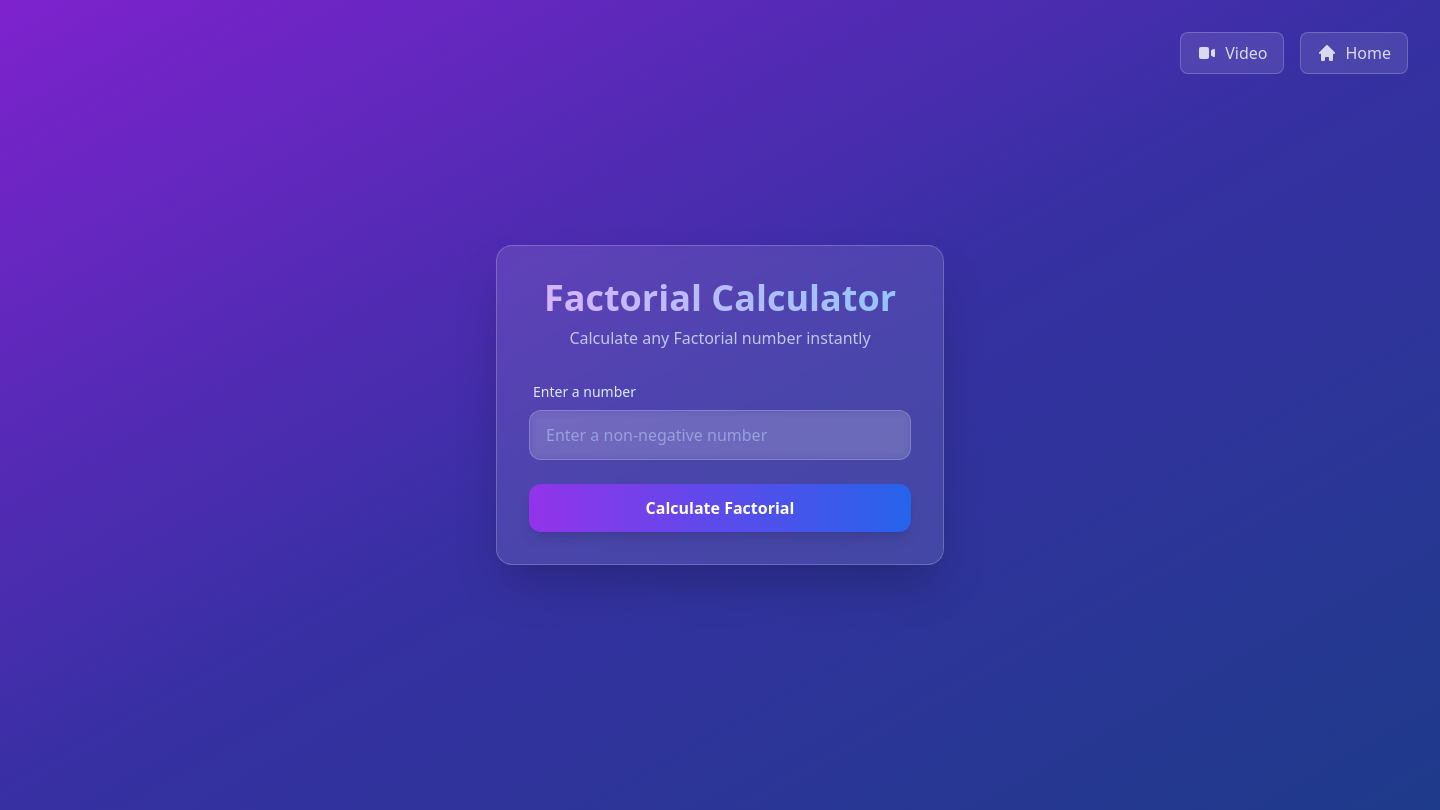
Test: Factorial Component › calculates factorial number successfully
This screenshot has width=1440, height=810.
Type "5" into the number field with placeholder "Enter a non-negative number".
click(720, 435); type("5")  # box [529,410,911,460]
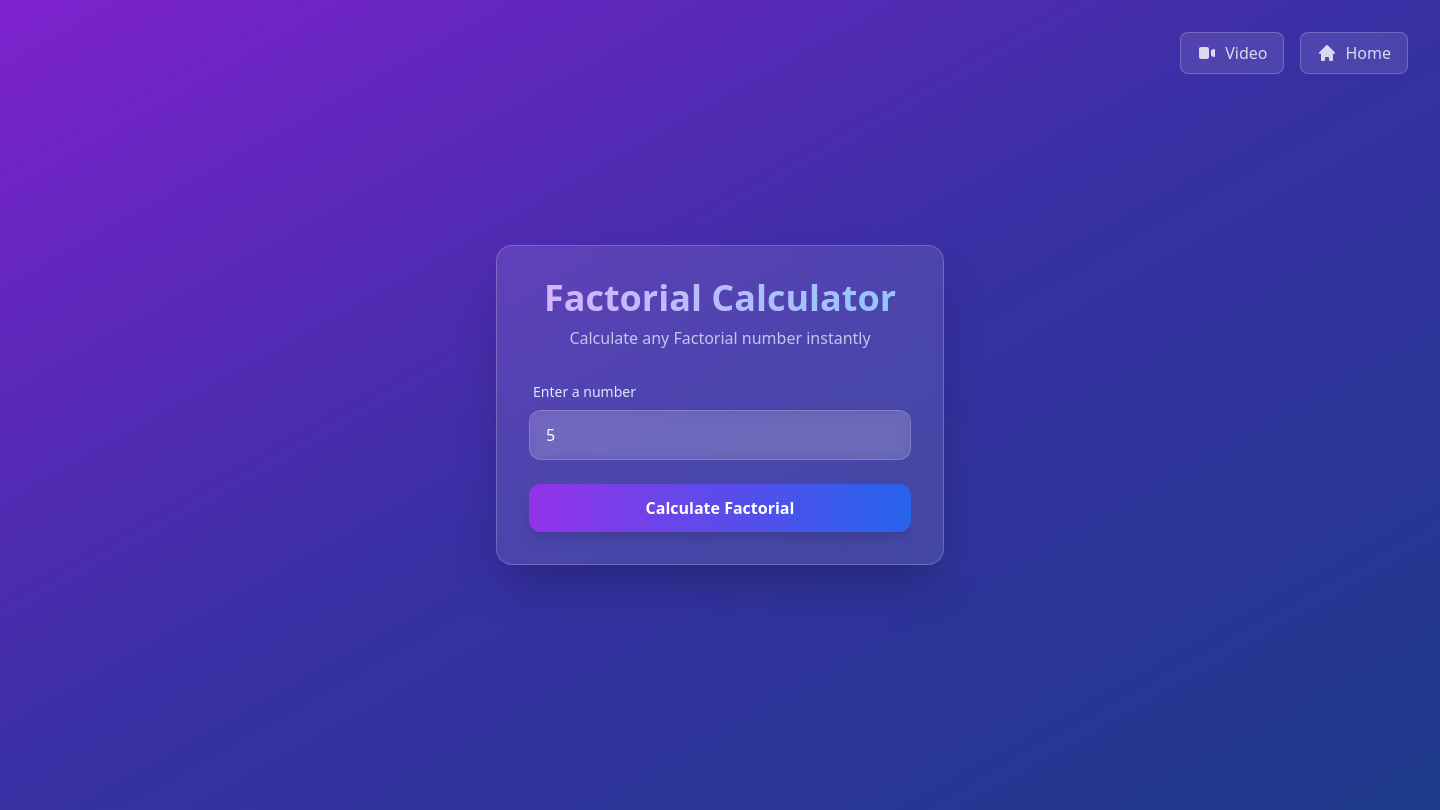
Click the button "Calculate Factorial".
click(720, 508)  # box [529,484,911,532]
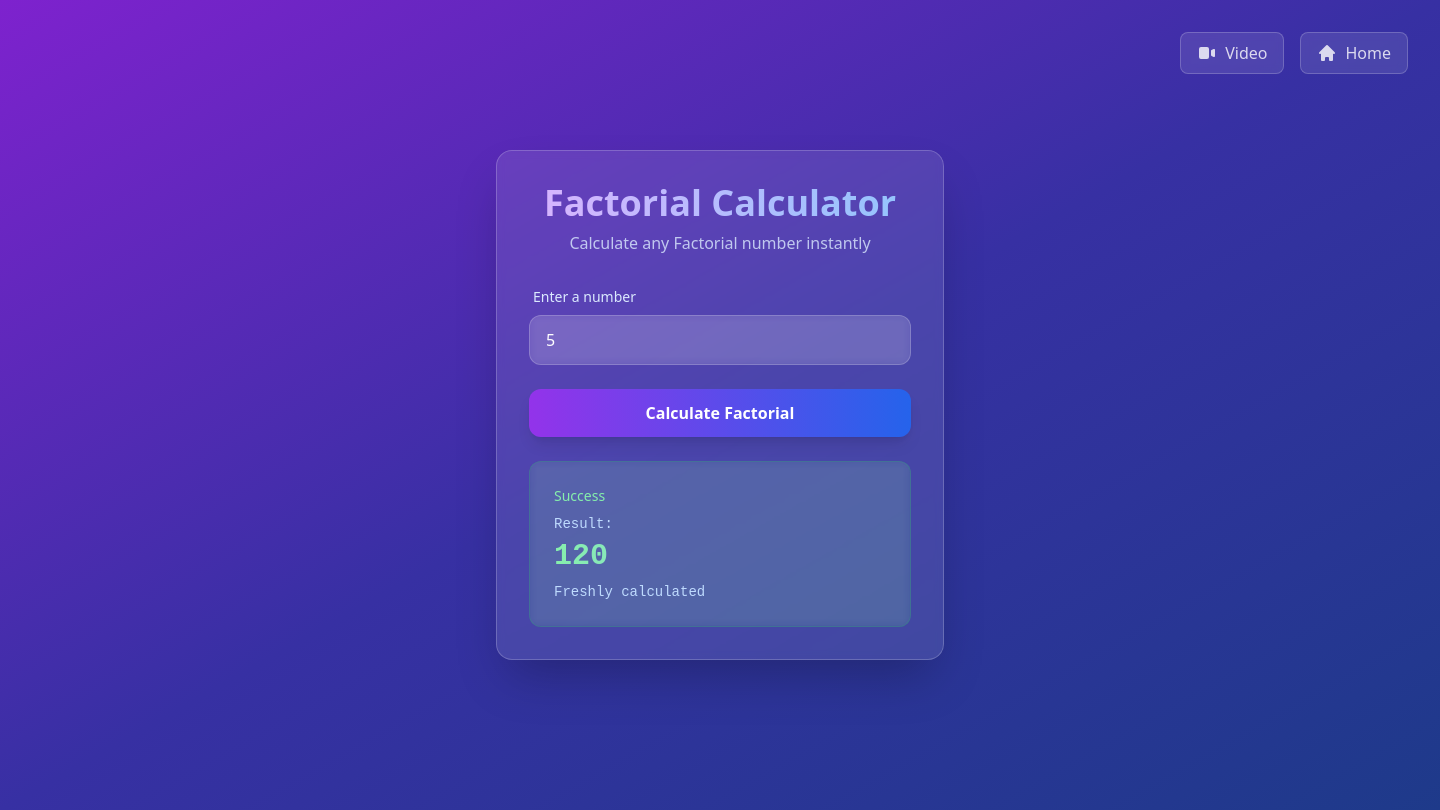
Now the text "Success" is shown, box [554,486,605,505]
Now the text "120" is shown, box [554,538,886,574]
Now the text "Freshly calculated" is shown, box [554,584,705,600]
